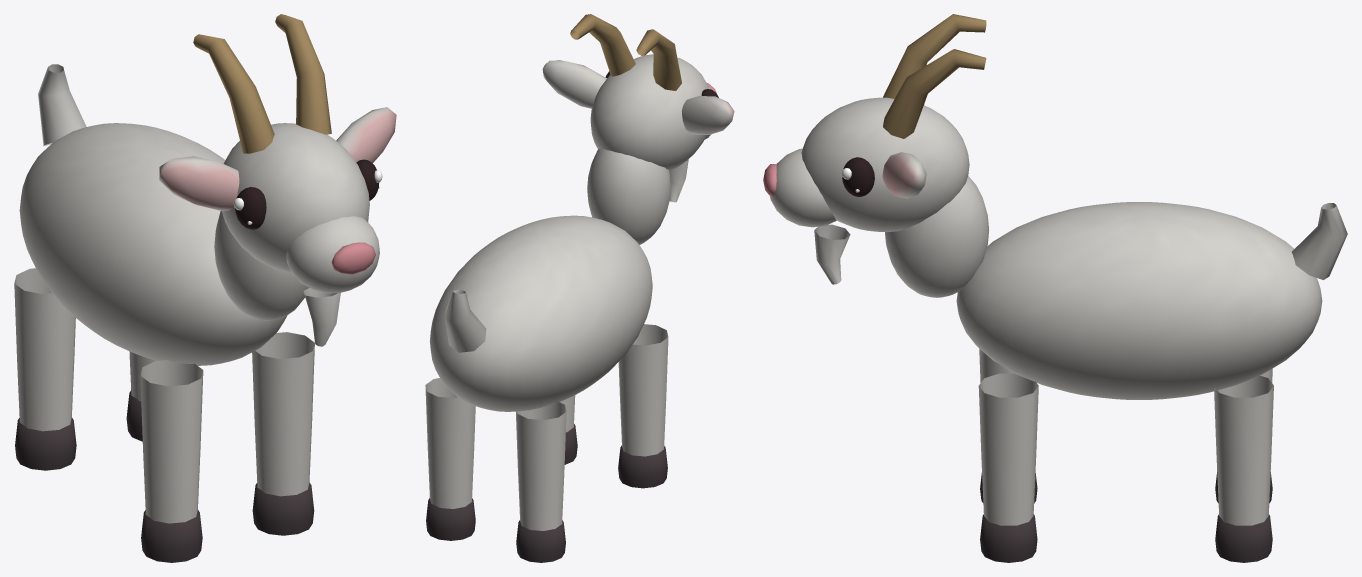
The model's file is folk_goat.glb.
The picture shows the model from 3 angles, left to right: view 1: azimuth 30°, elevation 25°; view 2: azimuth 150°, elevation 25°; view 3: azimuth 270°, elevation 25°; orthographic projection. The views are drawn at different scales.
Visible parts, largest first — view 1: goat_body, goat_leg_fl, goat_leg_fr, goat_leg_bl, goat_leg_br, goat_eye_l, goat_eye_r; view 2: goat_body, goat_leg_bl, goat_leg_fl, goat_leg_br, goat_leg_fr; view 3: goat_body, goat_leg_fr, goat_leg_br, goat_eye_r.
Part boxes in pixels (<box>): goat_body: <box>19,14,396,365</box>; goat_leg_fl: <box>140,360,203,562</box>; goat_leg_fr: <box>252,332,314,535</box>; goat_leg_bl: <box>14,268,76,470</box>; goat_leg_br: <box>126,351,156,441</box>; goat_eye_l: <box>233,187,266,229</box>; goat_eye_r: <box>356,159,382,200</box>; goat_body: <box>429,14,734,411</box>; goat_leg_bl: <box>515,401,566,562</box>; goat_leg_fl: <box>618,324,668,488</box>; goat_leg_br: <box>425,378,475,540</box>; goat_leg_fr: <box>559,395,577,464</box>; goat_body: <box>763,14,1347,399</box>; goat_leg_fr: <box>978,373,1038,562</box>; goat_leg_br: <box>1214,375,1273,562</box>; goat_eye_r: <box>841,157,874,196</box>.
Bounding box in the file's own units: 0.4006 × 0.8634 × 0.9263.
